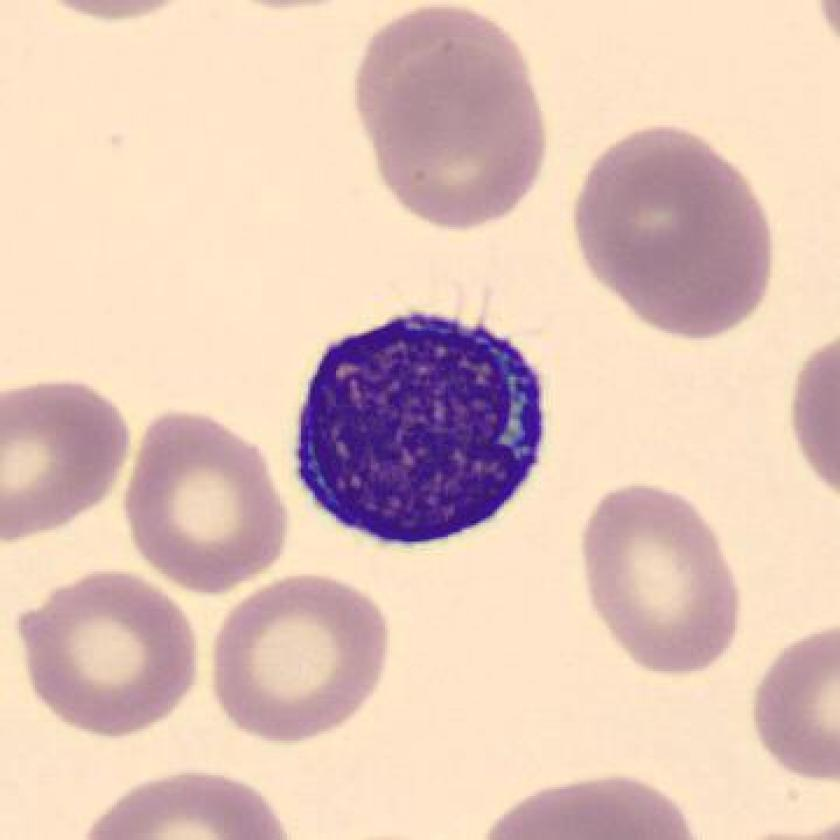lymphocyte: (281, 302, 570, 561)
